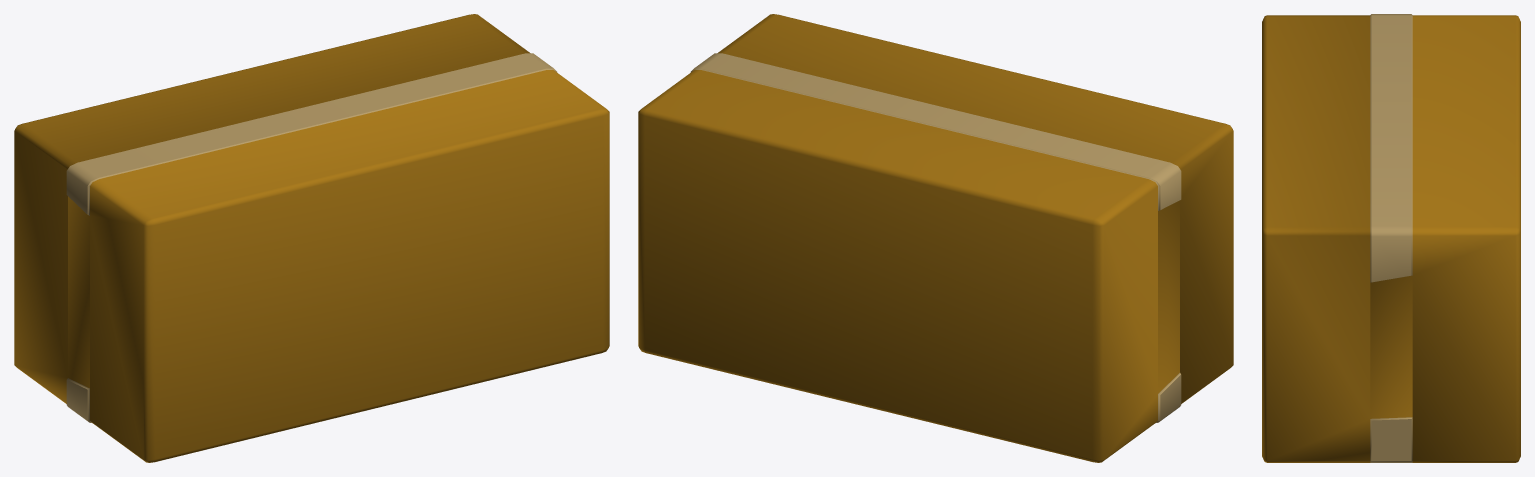
The picture shows the model from 3 angles, left to right: view 1: azimuth 30°, elevation 25°; view 2: azimuth 150°, elevation 25°; view 3: azimuth 270°, elevation 25°; orthographic projection. The views are drawn at different scales.
Visible parts, largest first — view 1: 2x1x1; view 2: 2x1x1; view 3: 2x1x1.
Part boxes in pixels (box(x1,y1,x2,y2)): 2x1x1: box(14, 14, 609, 462); 2x1x1: box(638, 14, 1233, 462); 2x1x1: box(1262, 14, 1520, 462).
Bounding box in the file's own units: 20.15 × 10.04 × 10.
